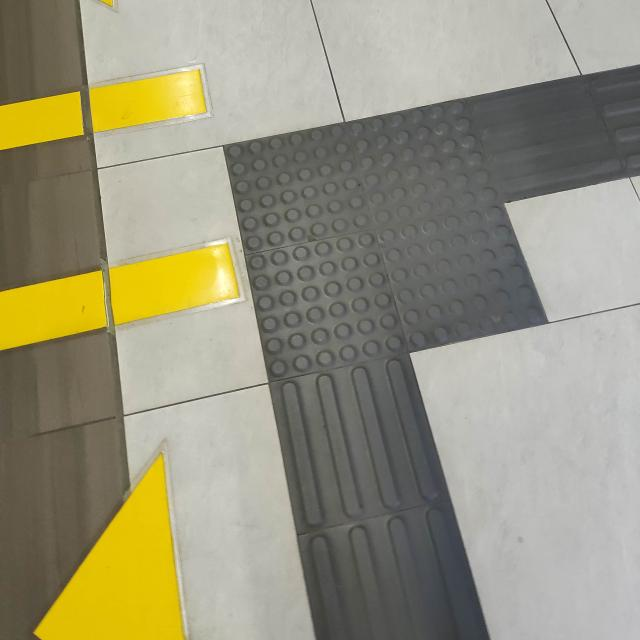kanan: (166, 59, 640, 422)
